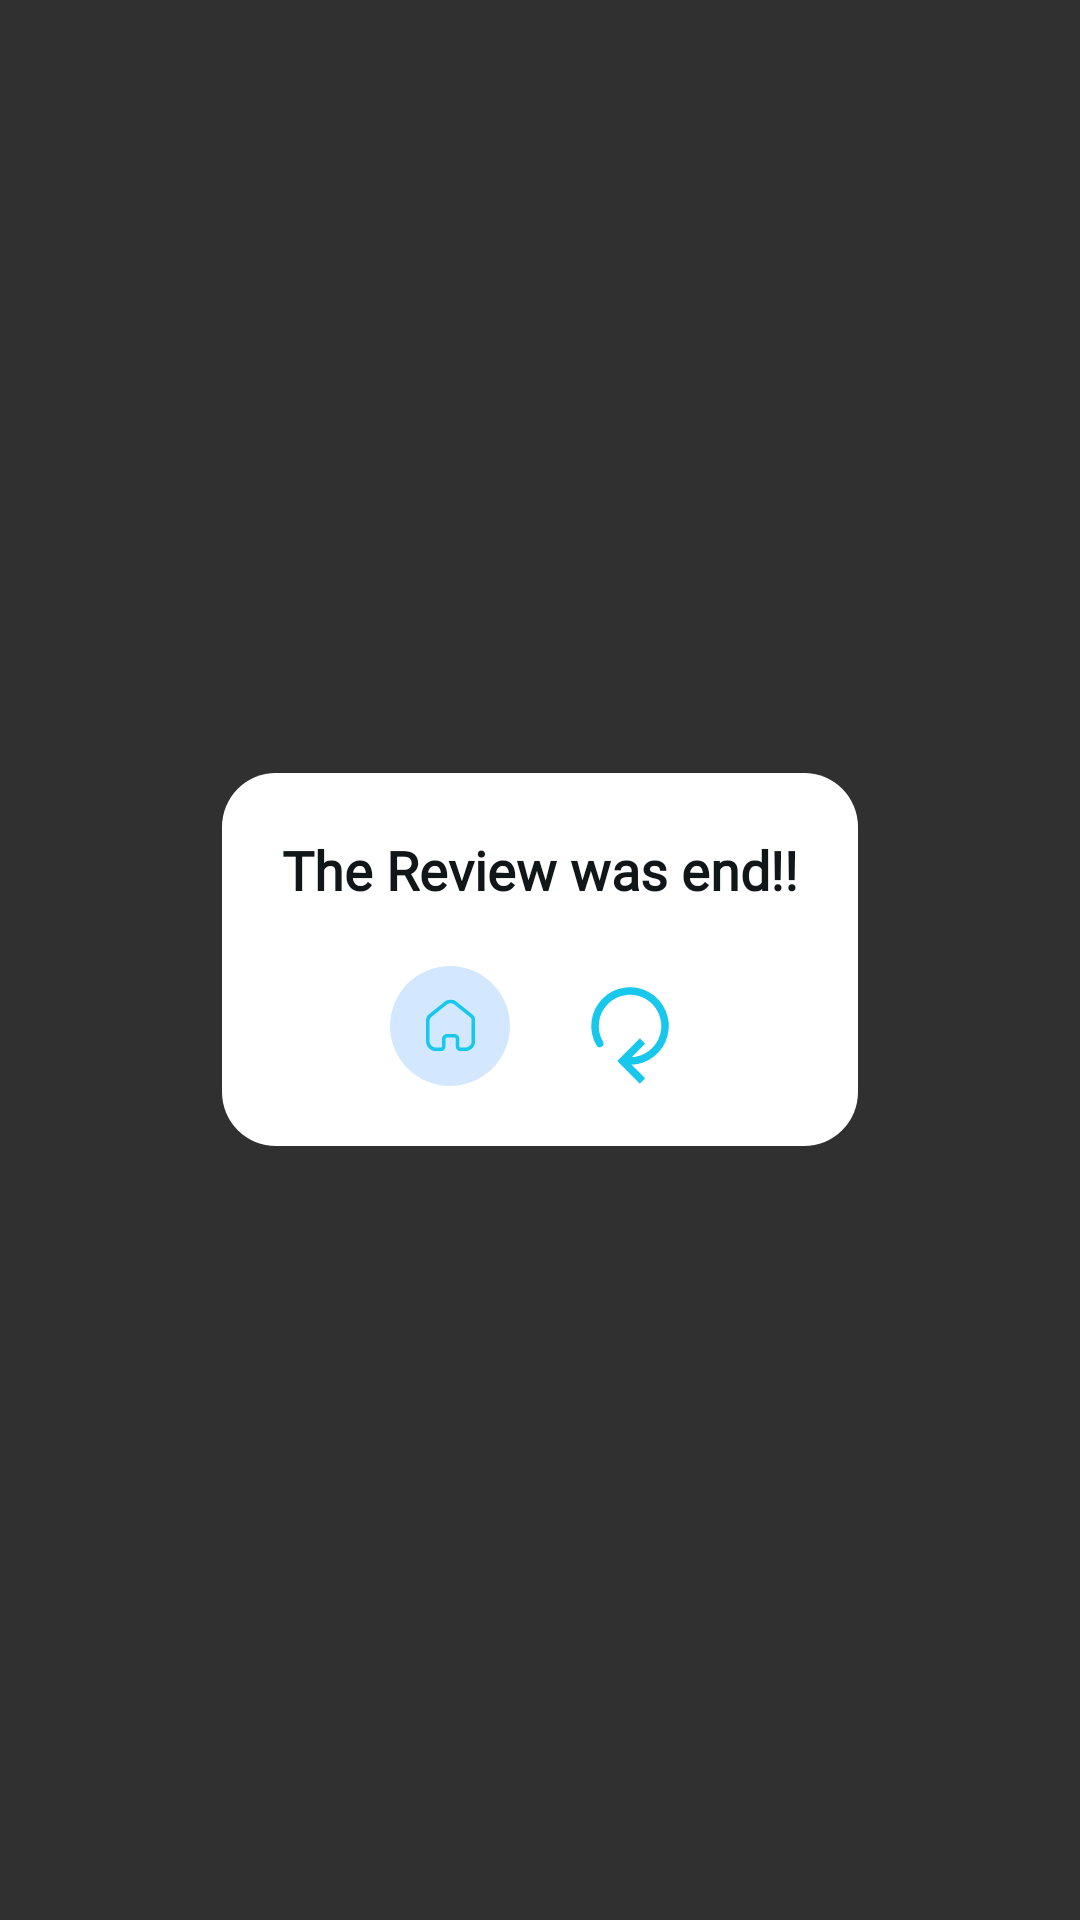

Icons on this 1080w x 1920h Android screen, each with its box as {"left": x1, "top": y1, "right": x2, "bottom": y2}:
again: {"left": 591, "top": 987, "right": 669, "bottom": 1084}
home: {"left": 390, "top": 966, "right": 510, "bottom": 1086}
